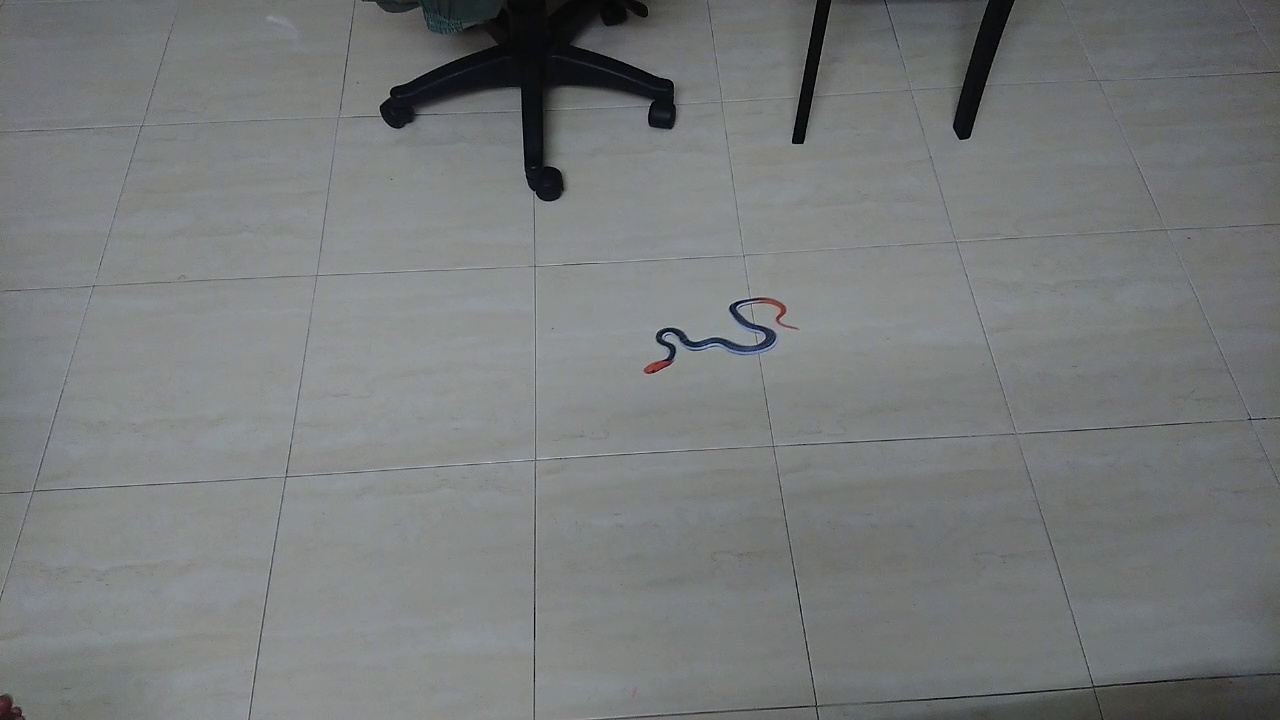snake: (630, 279, 814, 385)
